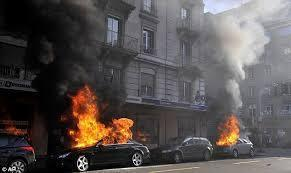fire: (56, 81, 148, 152), (215, 114, 240, 153)
